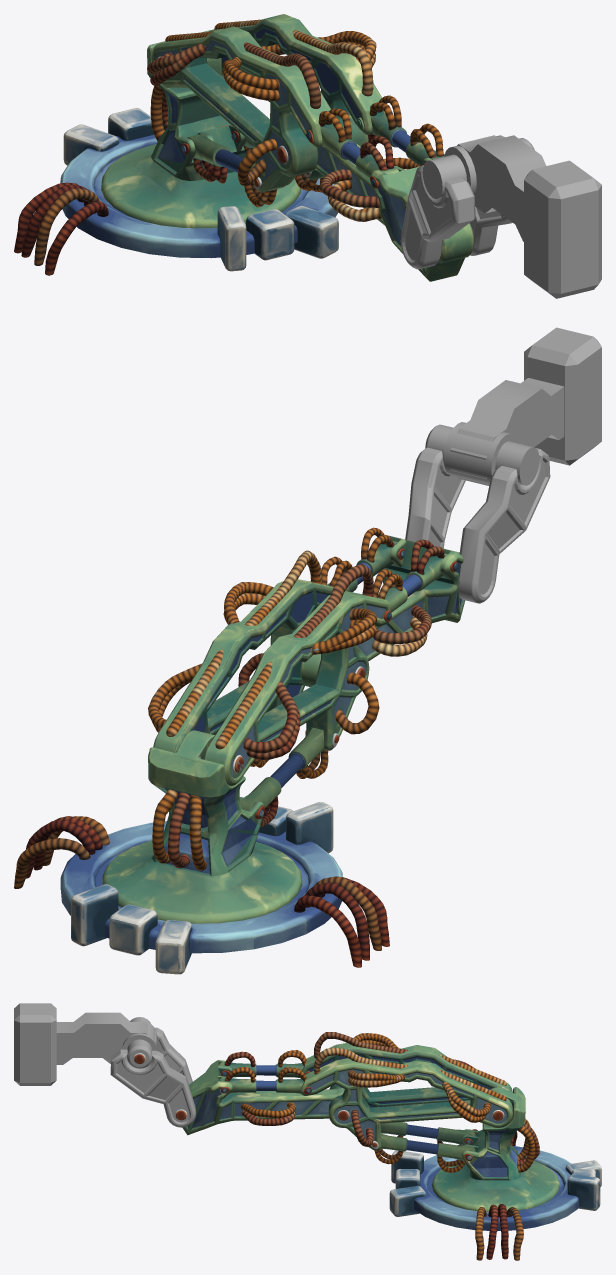
File: Marteau.fbx
The picture shows the model from 3 angles, top to bottom: view 1: azimuth 30°, elevation 25°; view 2: azimuth 150°, elevation 25°; view 3: azimuth 270°, elevation 25°; orthographic projection. The views are drawn at different scales.
Parts seen in each view (by area): view 1: polySurface318; view 2: polySurface318; view 3: polySurface318.
Part boxes in pixels (<box>): polySurface318: <box>14,14,601,298</box>; polySurface318: <box>14,327,601,974</box>; polySurface318: <box>14,1003,601,1260</box>.
Size of the model in its own units: 10.4 by 8.94 by 23.97.
